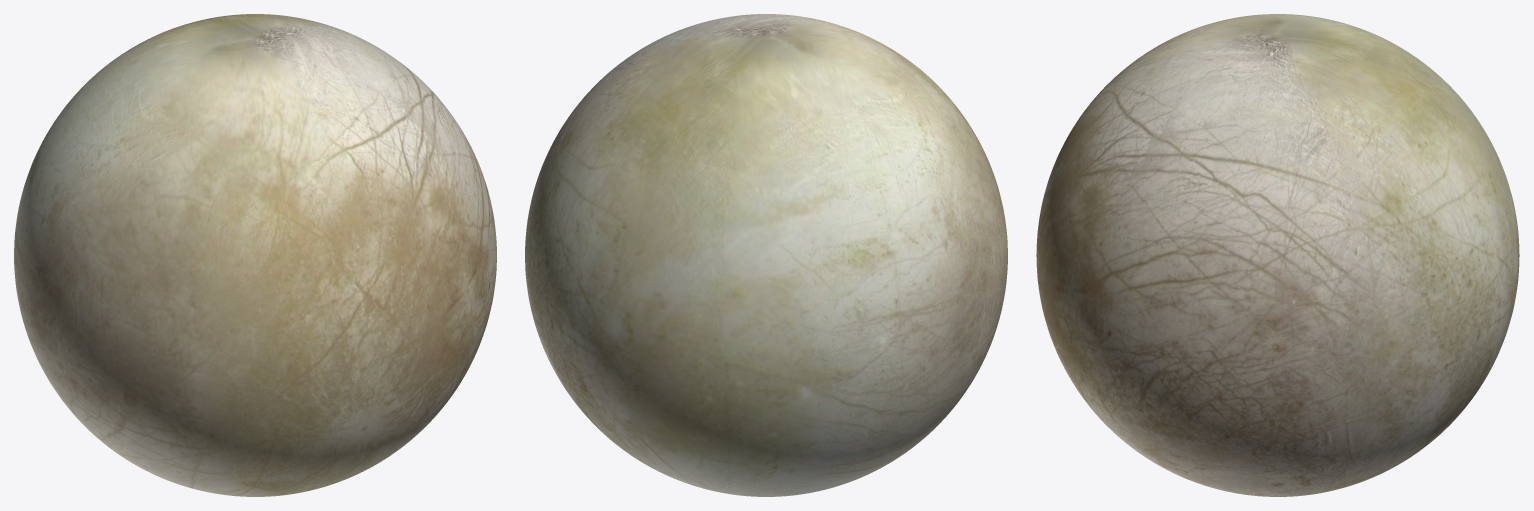
Rendered from Europa_High.fbx.
3 views of the same model, side by side, from view 1: azimuth 30°, elevation 25°; view 2: azimuth 150°, elevation 25°; view 3: azimuth 270°, elevation 25° (orthographic).
Visible parts, largest first — view 1: Europa_High; view 2: Europa_High; view 3: Europa_High.
Part boxes in pixels (box(x1,y1,x2,y2)): Europa_High: box(14, 14, 496, 496); Europa_High: box(525, 14, 1007, 496); Europa_High: box(1036, 14, 1519, 496).
Bounding box in the file's own units: 200 × 200 × 200.
Materials: 1 (1 with a texture image).
